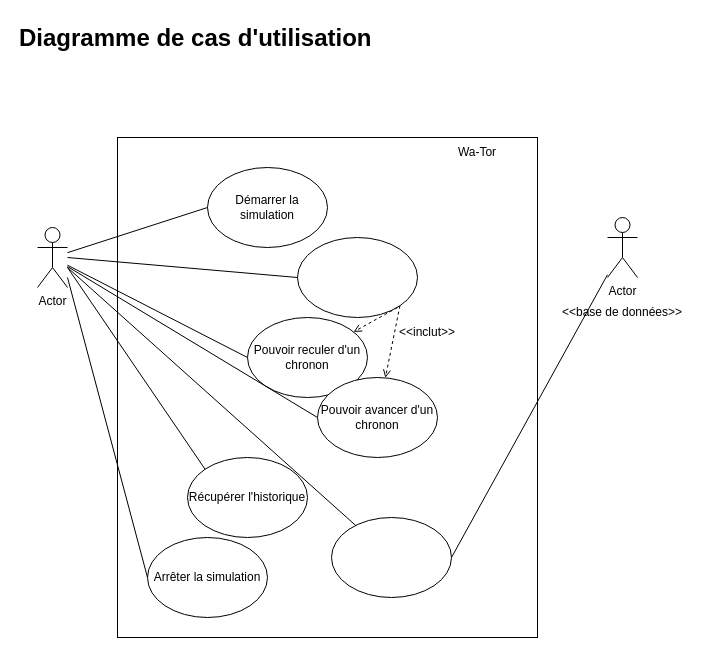
Some shapes in this 704 by 655 pixel diagram are drawn without their labels. The shapes that lost their labels are listed below. From the top down, each one's centre as x and y in pixels, then its label:
point (357, 277): Faire une pause
point (391, 557): Sauvegarder des données (paramètres, statistiques)
